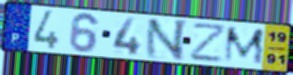4: (110, 15, 145, 57), (31, 9, 62, 51)
6: (68, 11, 101, 54)
M: (222, 26, 267, 66)
N: (144, 18, 190, 62)
Z: (189, 23, 228, 64)
